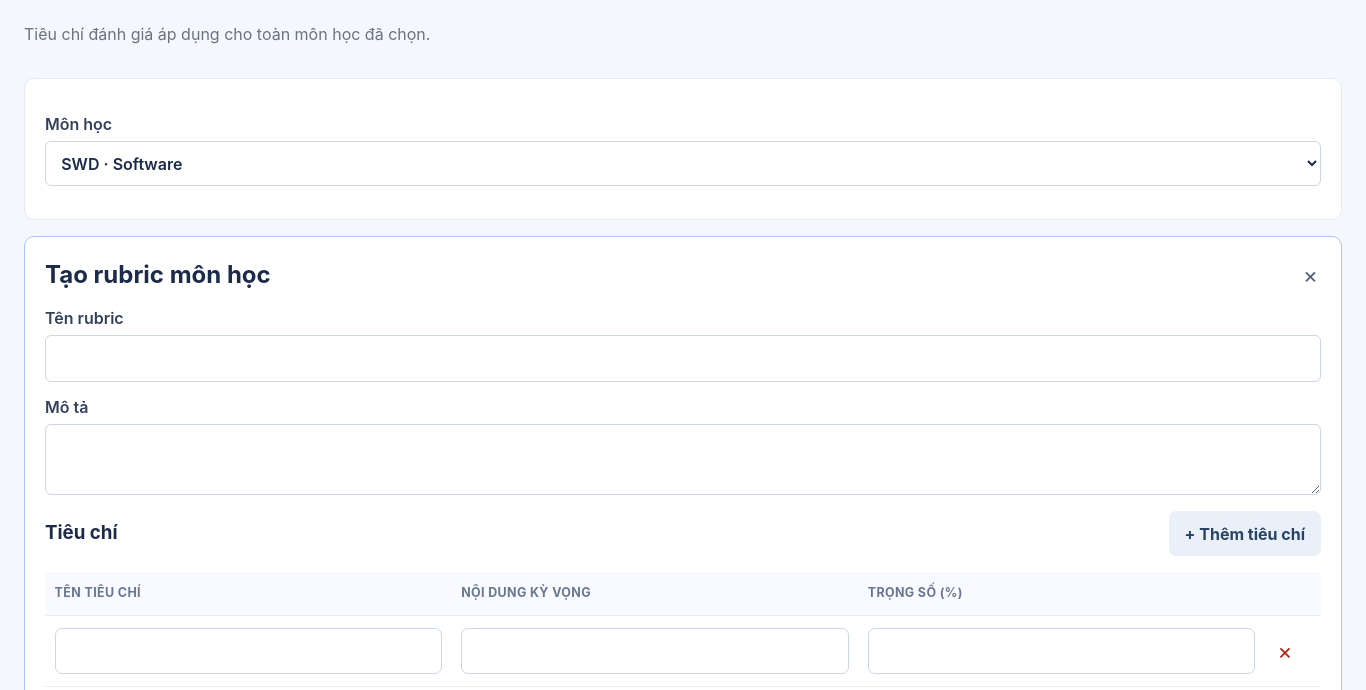
Test: SubjectRubricPage › treats a subject rubric 404 as an empty state and posts only subject rubric fields
Earlier steps of the test are not shown.
Later steps or results of the test are not shown.
Type "New rubric" into the field labelled "Tên rubric" at [683, 359], box [45,335,1321,382]
Type "Accuracy" into the field named "Tên tiêu chí 1" at [248, 651], box [55,628,442,674]
Type "Correct facts" into the field named "Nội dung kỳ vọng 1" at [655, 651], box [461,628,848,674]
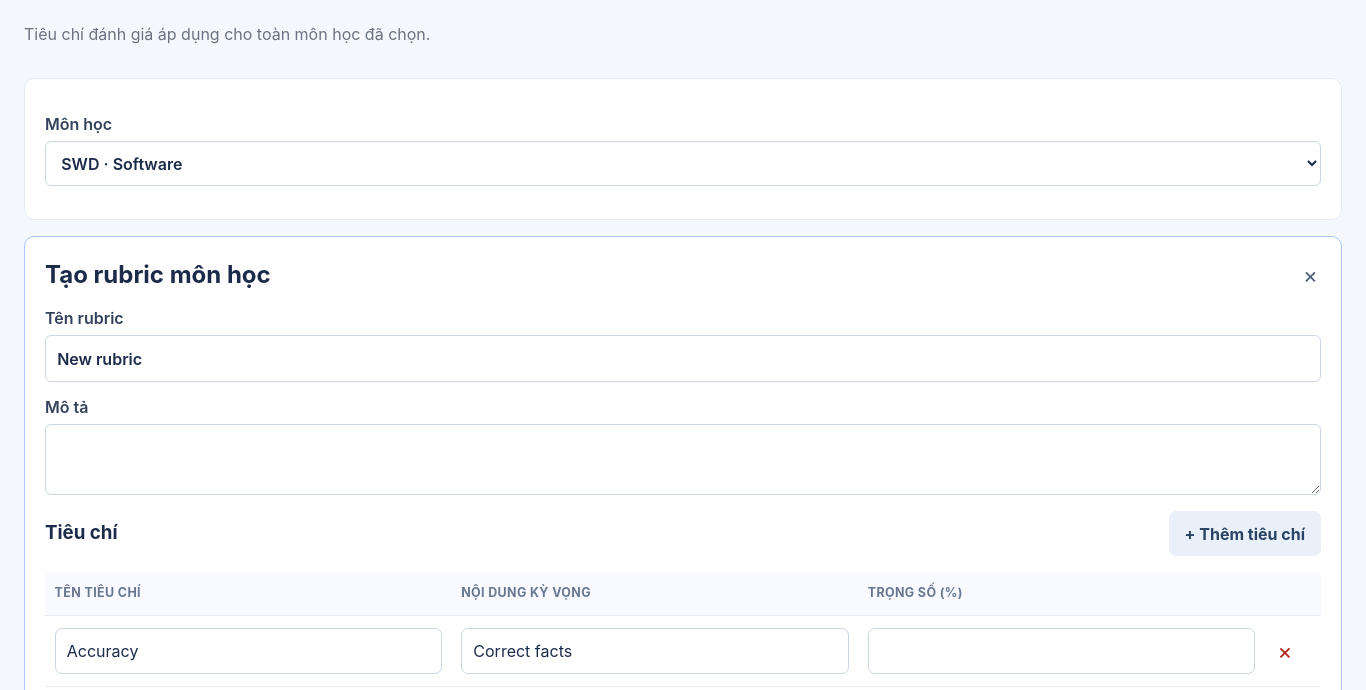
Type "60" into the field named "Trọng số (%) 1" at [1061, 651], box [868,628,1255,674]
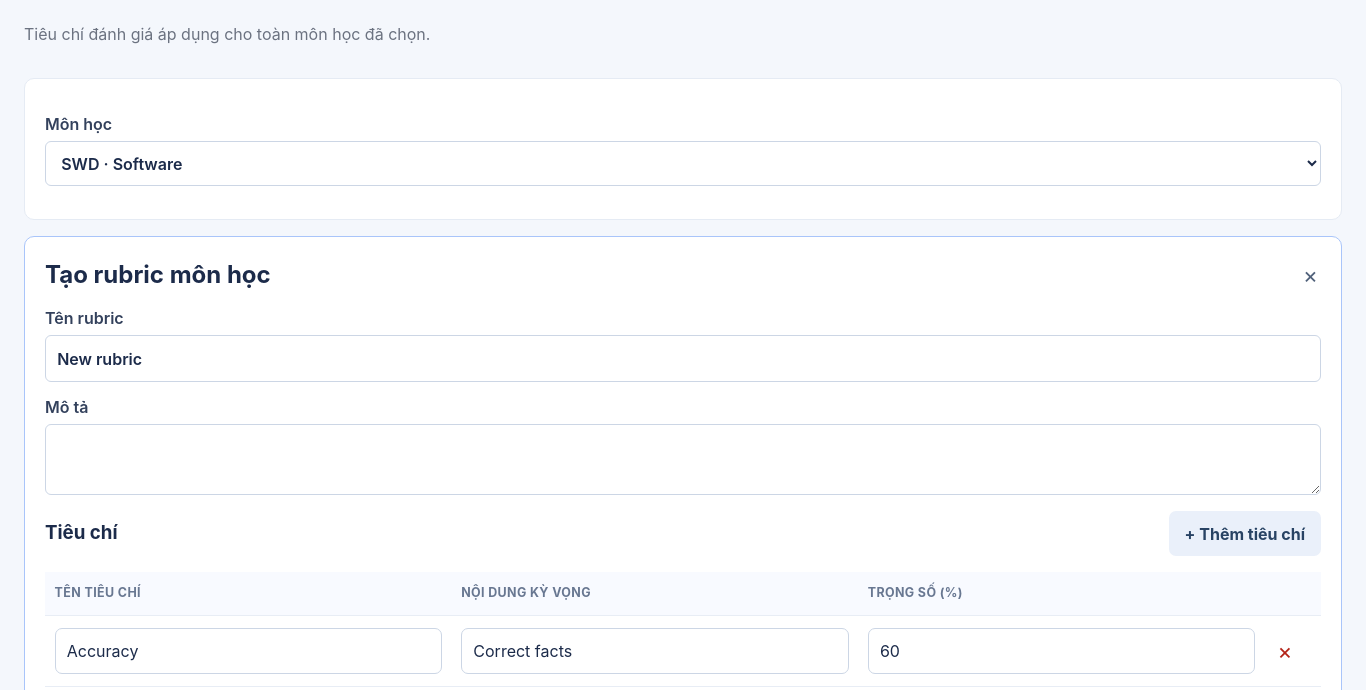
Click the button "+ Thêm tiêu chí" at [1245, 534], box [1169,511,1321,556]
(page scrolled)
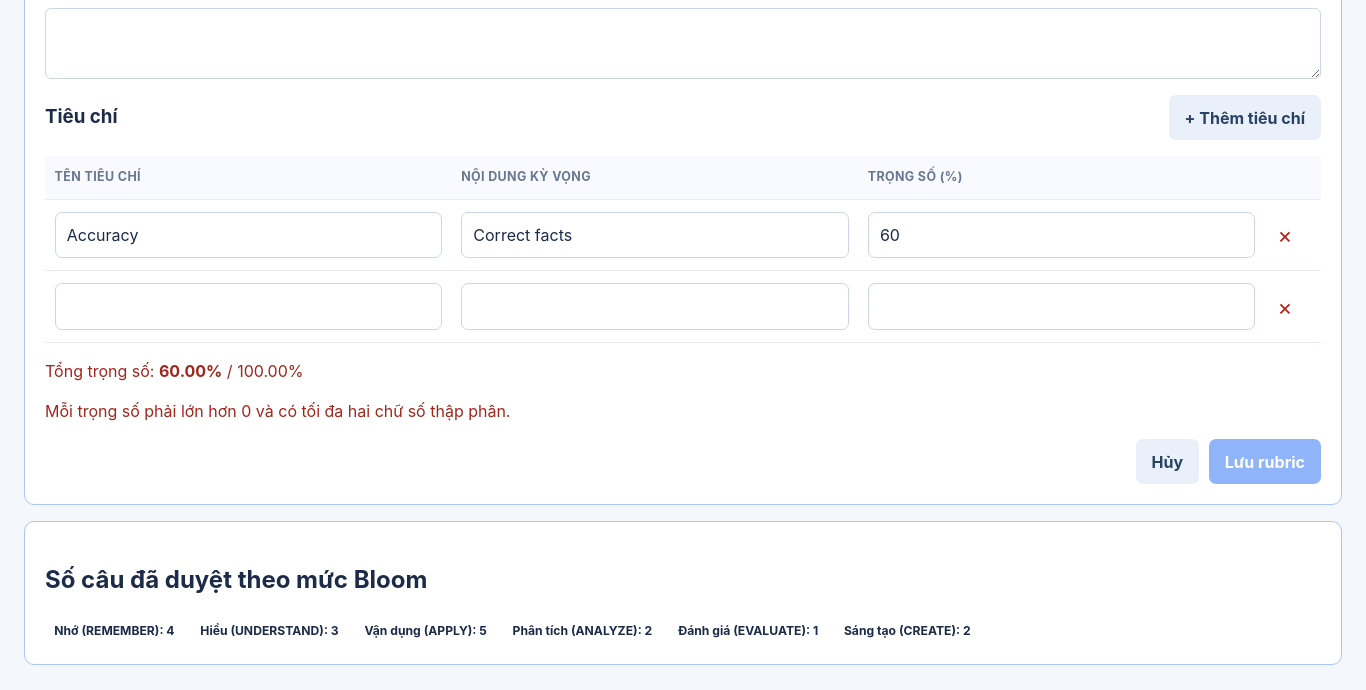
Type "Reasoning" into the field named "Tên tiêu chí 2" at [248, 307], box [55,283,442,330]
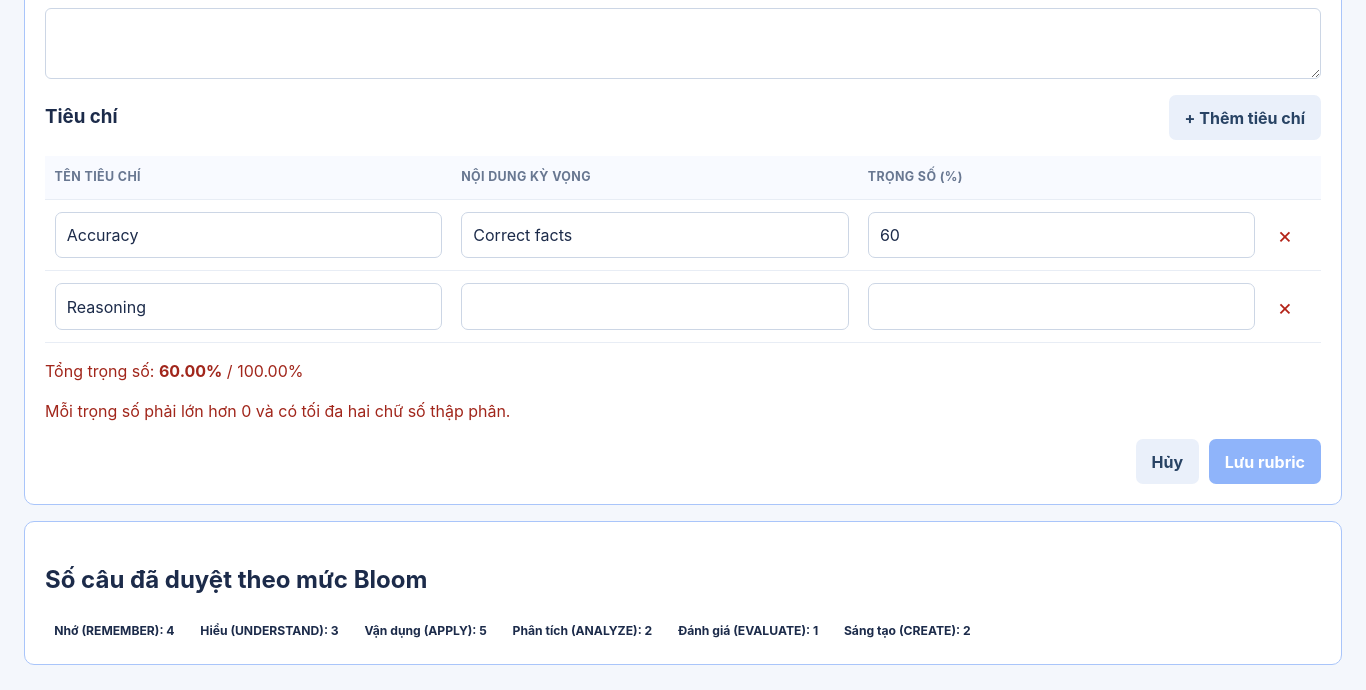
Type "Clear reasoning" into the field named "Nội dung kỳ vọng 2" at [655, 307], box [461,283,848,330]
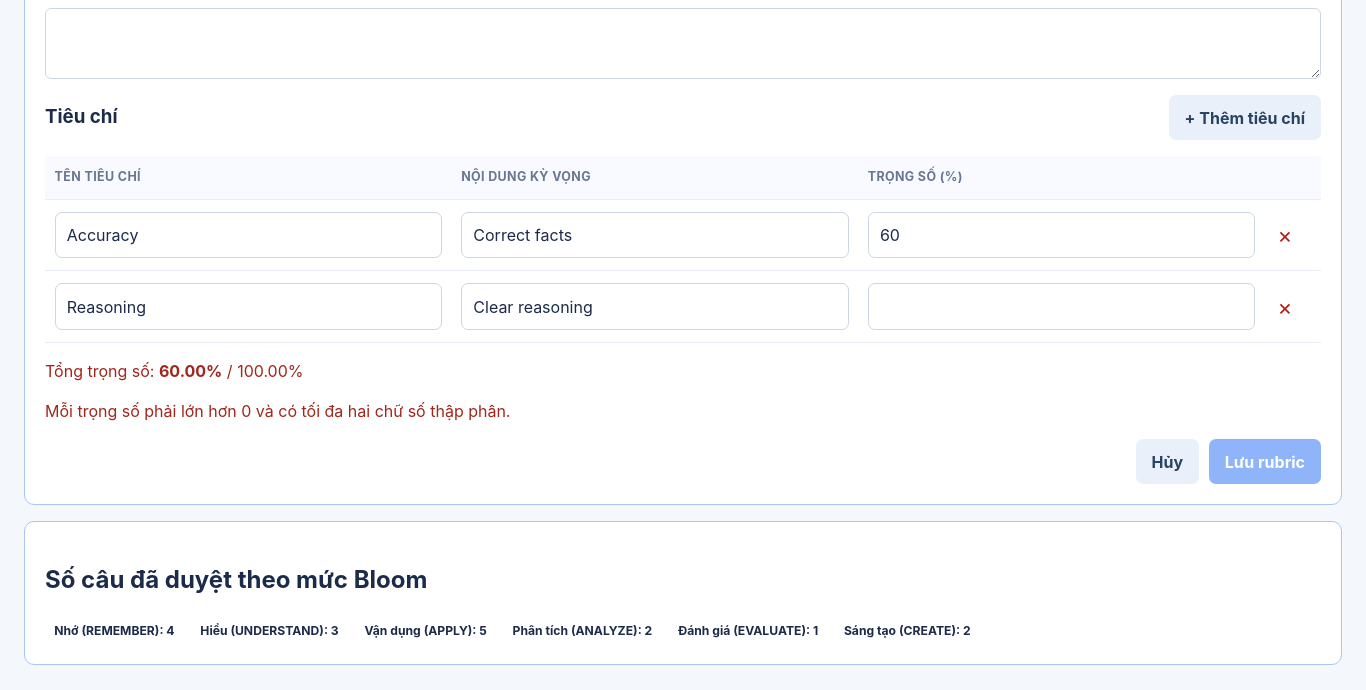
Type "40" into the field named "Trọng số (%) 2" at [1061, 307], box [868,283,1255,330]
(page scrolled)
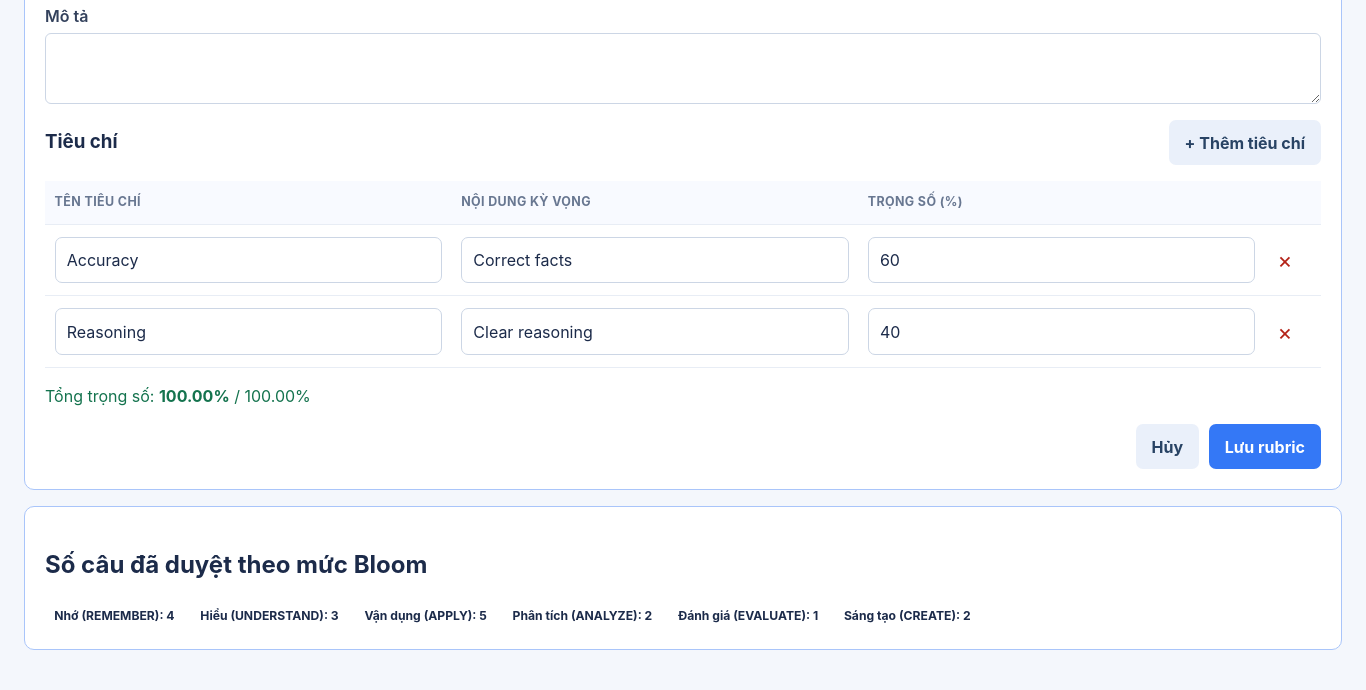
Expected: the element with class "weight-total" shows "100.00%", [230,386,311,406]
